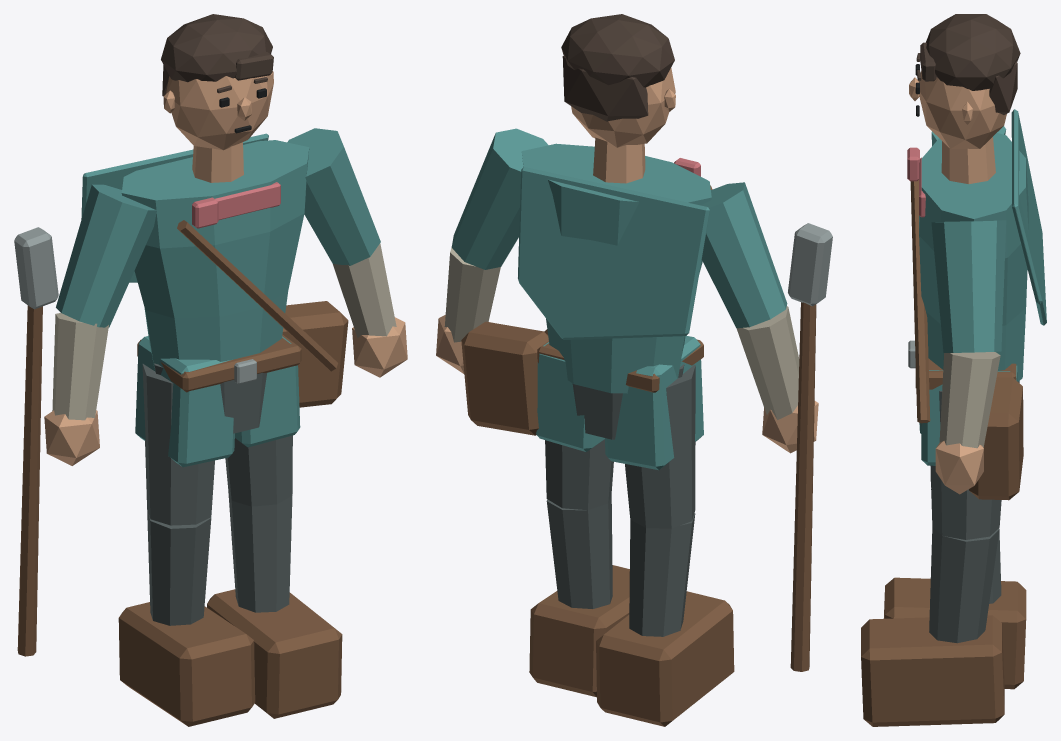
The model's file is npc_scout_step_r_v01.glb.
3 renders of one model, left to right at view 1: azimuth 30°, elevation 25°; view 2: azimuth 150°, elevation 25°; view 3: azimuth 270°, elevation 25°, orthographic.
Visible parts, largest first — view 1: GEO_npc_scout_step_r_v01; view 2: GEO_npc_scout_step_r_v01; view 3: GEO_npc_scout_step_r_v01.
Boxes of the visible parts, <box> form: GEO_npc_scout_step_r_v01: <box>14,14,407,726</box>; GEO_npc_scout_step_r_v01: <box>436,14,832,726</box>; GEO_npc_scout_step_r_v01: <box>861,14,1046,726</box>.
Bounding box in the file's own units: 1.25 × 2.06 × 0.5149.
